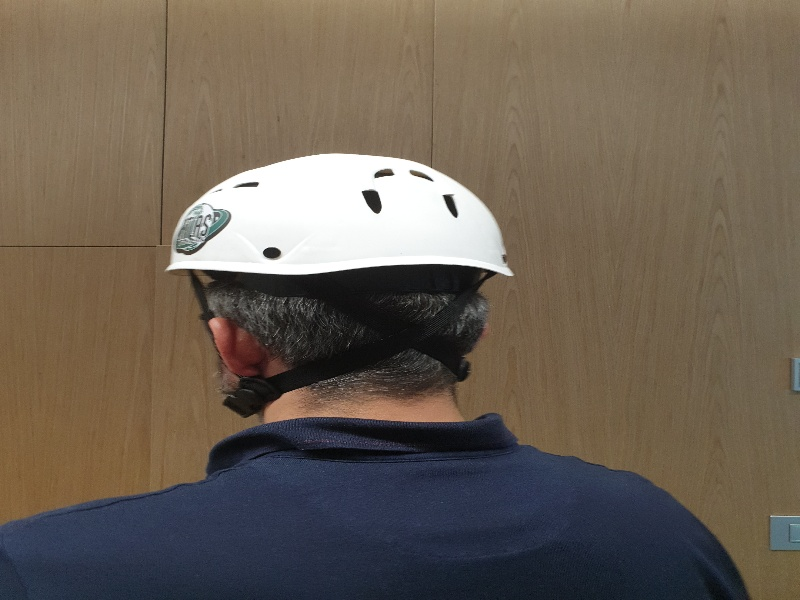Baret: (166, 152, 514, 288)
